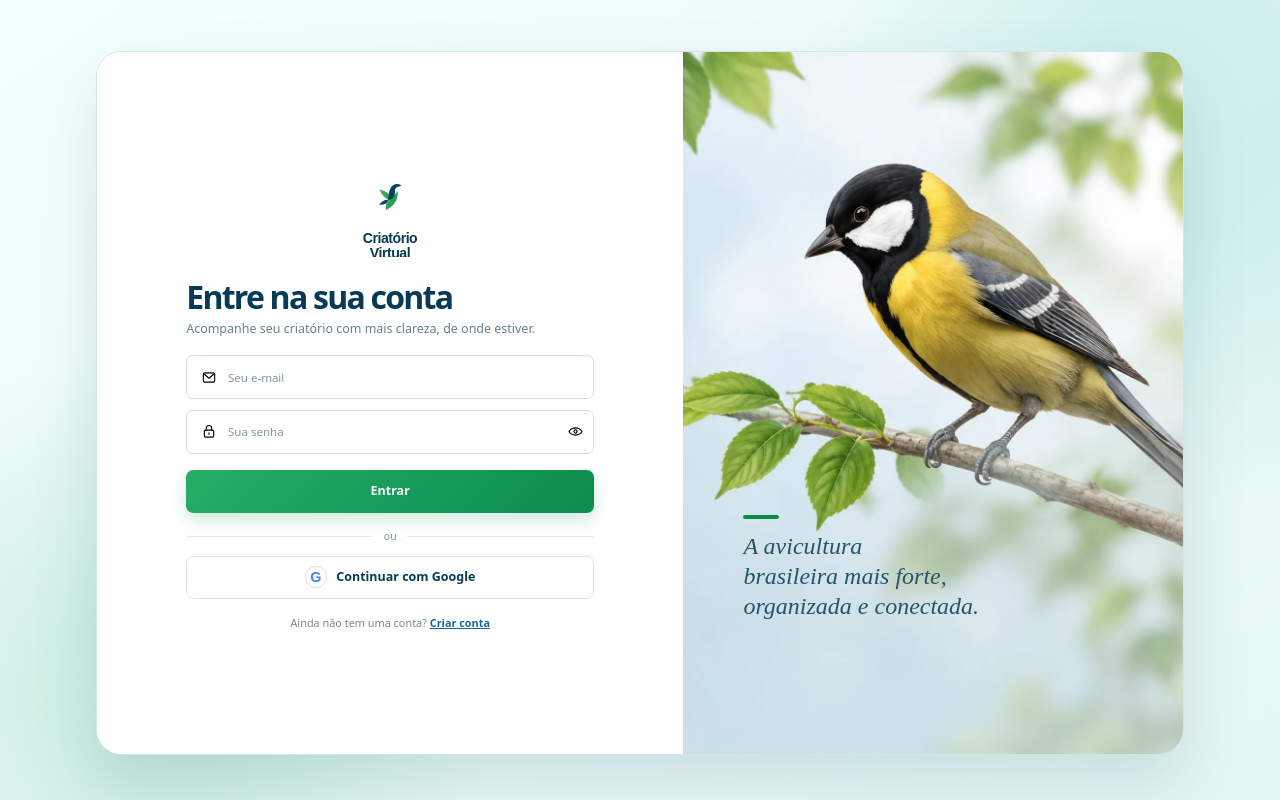
LoginPage › shows a recoverable error when Google does not authenticate the session
This screenshot has width=1280, height=800.
Expected: the heading "Entre na sua conta" is shown, [186,275,452,318]
Click the button "G Continuar com Google": (390, 577) [186,556,594,599]
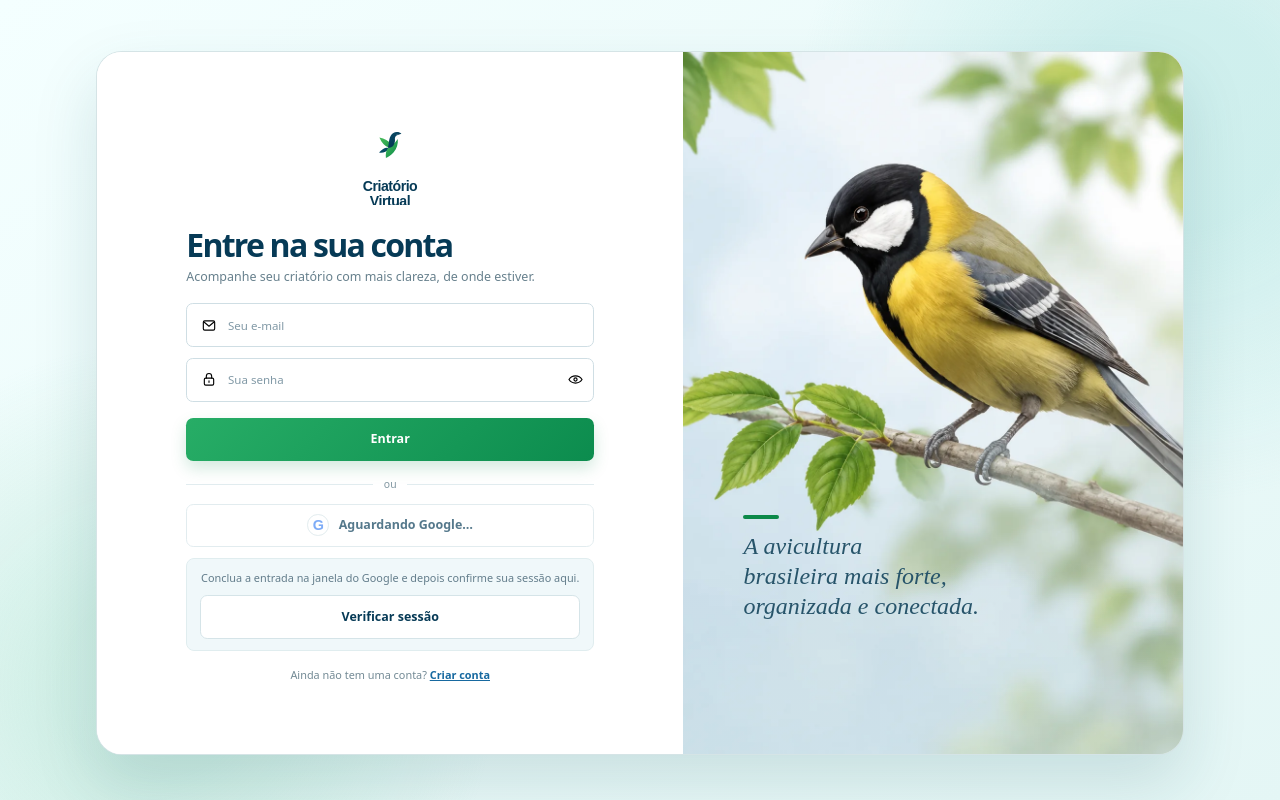
Click the button "Verificar sessão": (390, 617) [200,595,580,639]
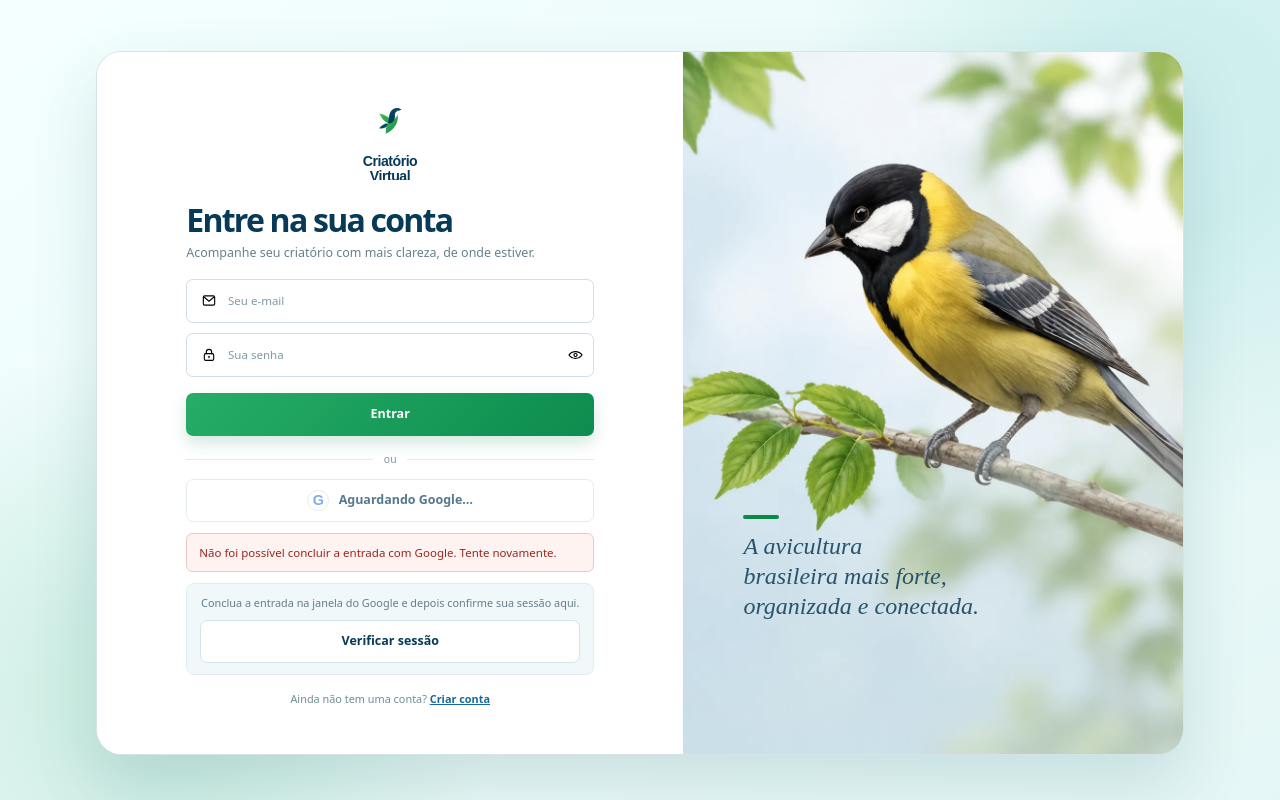
Expected: the heading "Entre na sua conta" is shown, [186,198,452,241]
Now the message "Não foi possível concluir a entrada com Google. Tente novamente." is shown, box [186,533,594,572]
